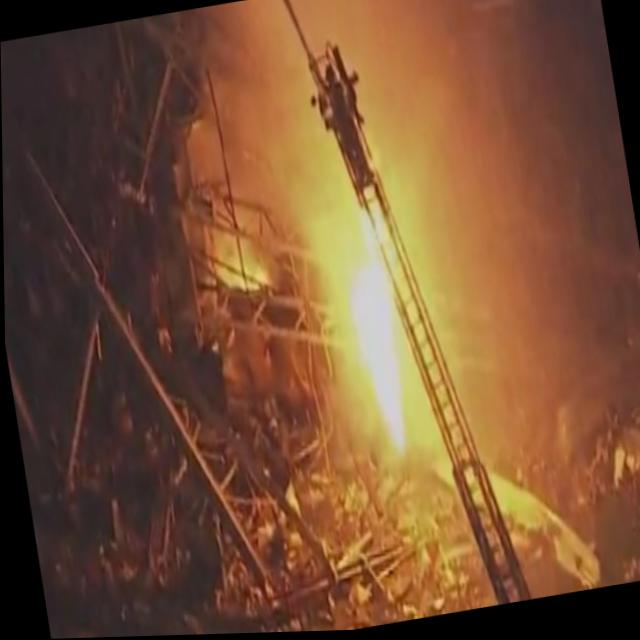fire: (328, 218, 429, 494), (225, 255, 274, 298)
